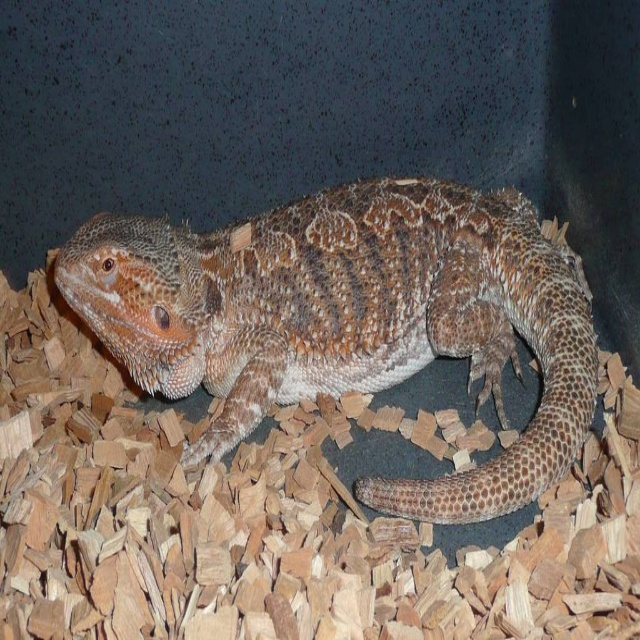Lizard: (52, 184, 595, 549)
